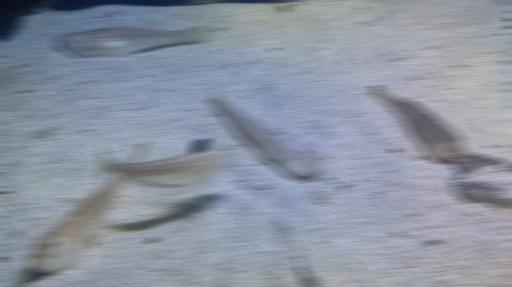Fish: (28, 144, 237, 272), (211, 90, 326, 177), (55, 26, 208, 57), (407, 107, 466, 162)
